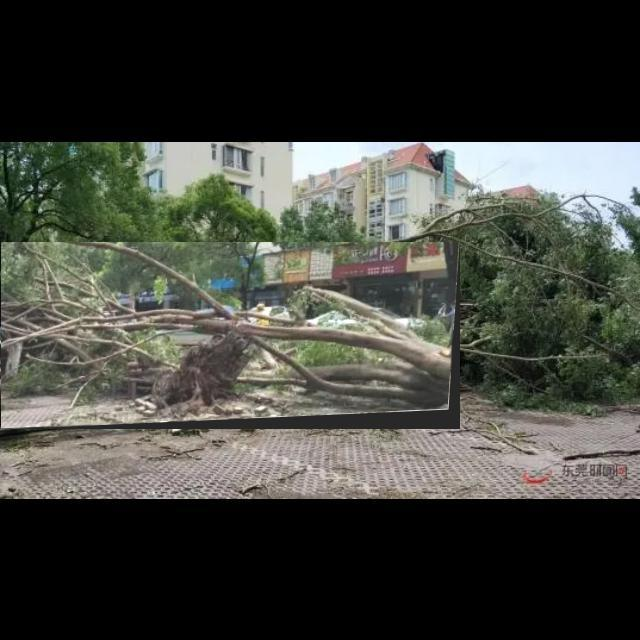fallen_tree: (1, 242, 461, 430)
